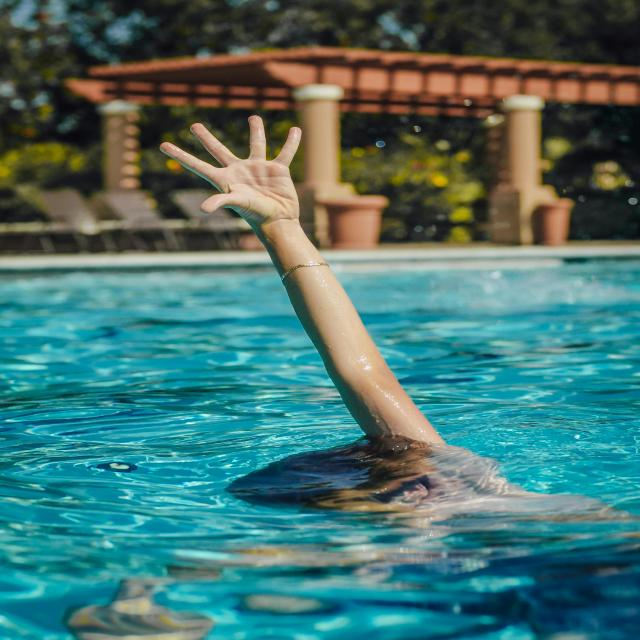Drowning: (118, 86, 553, 530)
